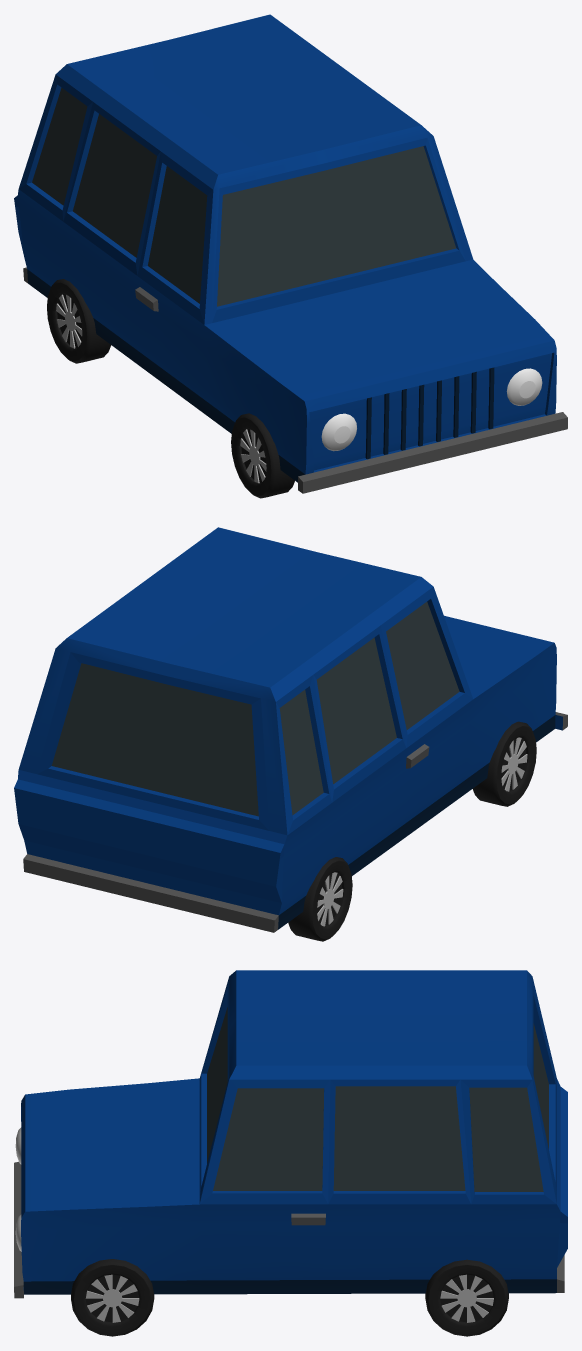
Rendered from car_blue.fbx.
3 views of the same model, one above another, from view 1: azimuth 30°, elevation 25°; view 2: azimuth 150°, elevation 25°; view 3: azimuth 270°, elevation 25° (orthographic). The views are drawn at different scales.
Visible parts, largest first — view 1: Car, Wheel_front_right, Wheel_back_right, Headlight_left, Headlight_right; view 2: Car, Wheel_front_right, Wheel_back_right; view 3: Car, Wheel_front_left, Wheel_back_left.
Boxes of the visible parts, x1,y1,x2,y2 form: Car: [14, 14, 567, 493]; Wheel_front_right: [231, 413, 294, 498]; Wheel_back_right: [47, 279, 110, 363]; Headlight_left: [506, 368, 542, 405]; Headlight_right: [321, 413, 356, 451]; Car: [14, 527, 567, 932]; Wheel_front_right: [473, 721, 536, 806]; Wheel_back_right: [288, 857, 352, 941]; Car: [14, 970, 567, 1298]; Wheel_front_left: [71, 1259, 154, 1336]; Wheel_back_left: [425, 1259, 508, 1336].
Bounding box in the file's own units: 4.4 × 4.06 × 7.94.
